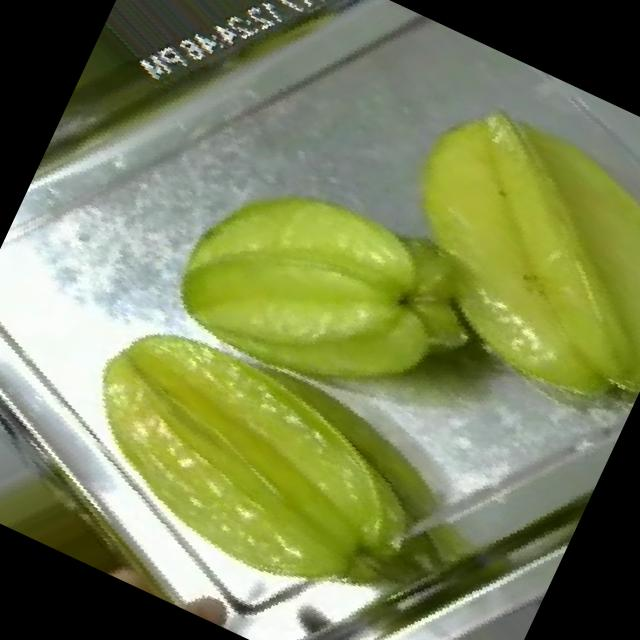fruit: (54, 68, 556, 589), (286, 21, 640, 487)
